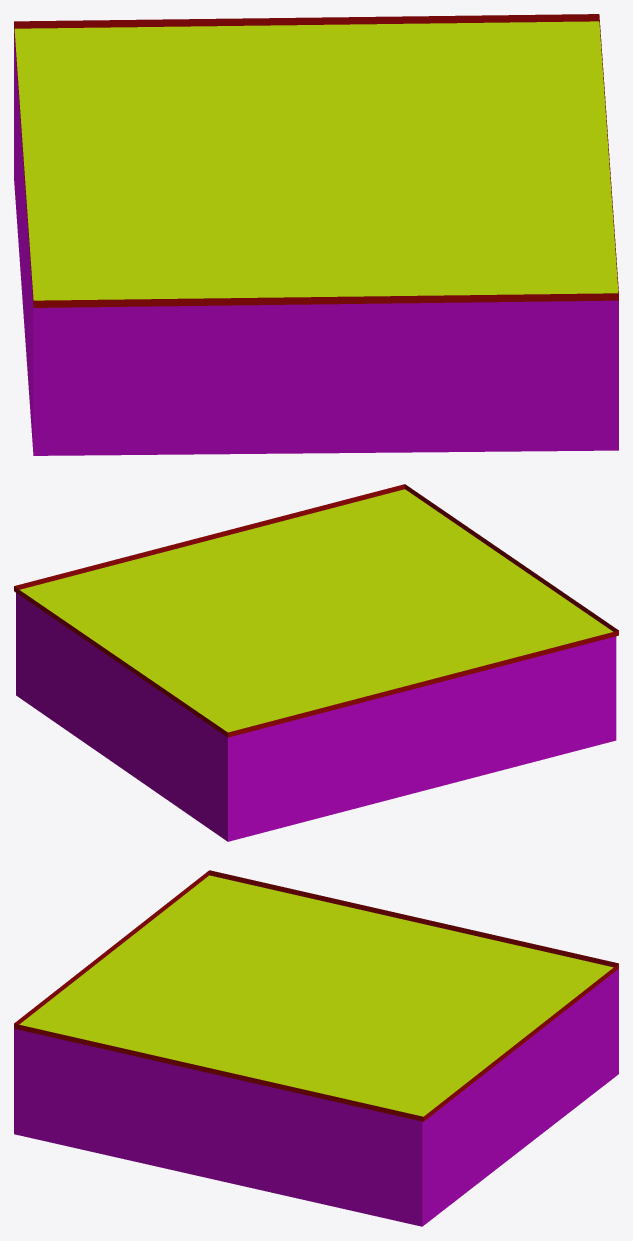
File: ssv_53.glb
3 views of the same model, one above another, from view 1: azimuth 30°, elevation 25°; view 2: azimuth 150°, elevation 25°; view 3: azimuth 270°, elevation 25° (orthographic). The views are drawn at different scales.
Parts seen in each view (by area): view 1: ssv_53; view 2: ssv_53; view 3: ssv_53.
Boxes of the visible parts, x1,y1,x2,y2 form: ssv_53: (14,14,618,455); ssv_53: (14,484,618,841); ssv_53: (14,870,618,1226).
Bounding box in the file's own units: 35.77 × 7.49 × 37.1.
